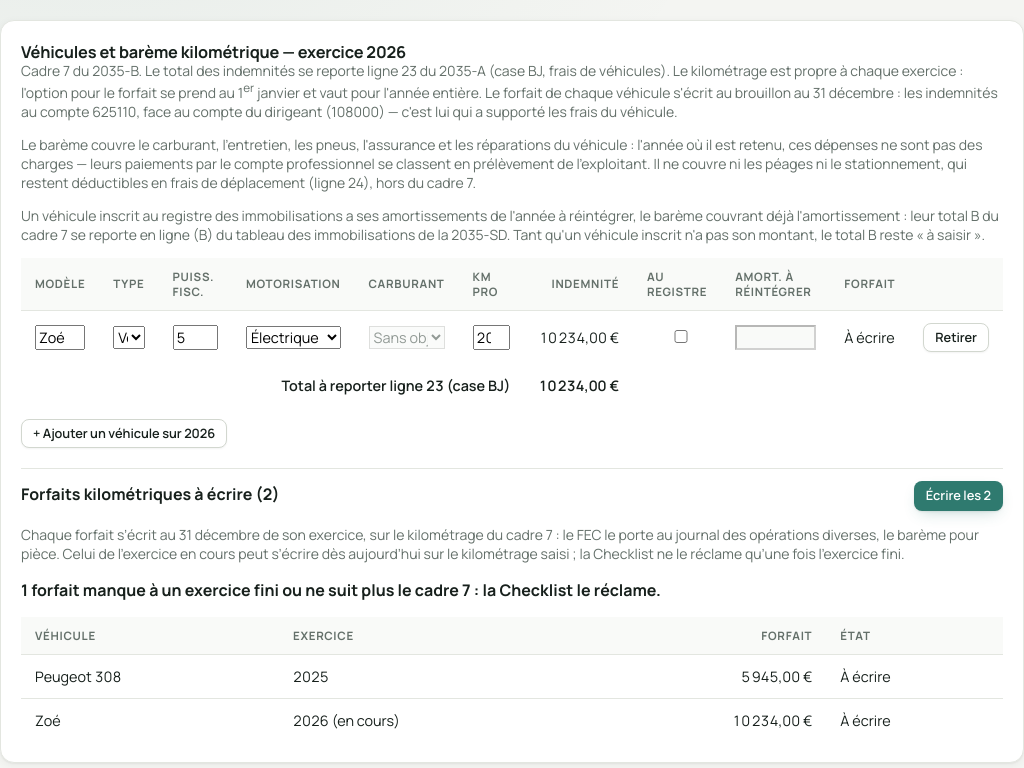
Test case: le forfait kilométrique de chaque ligne du cadre 7 › écrit les forfaits de TOUS les exercices par la base, au compte du dirigeant
The width and height of the screenshot is (1024, 768).
Click the button "Écrire les 2": [958, 496] box [914, 481, 1003, 511]
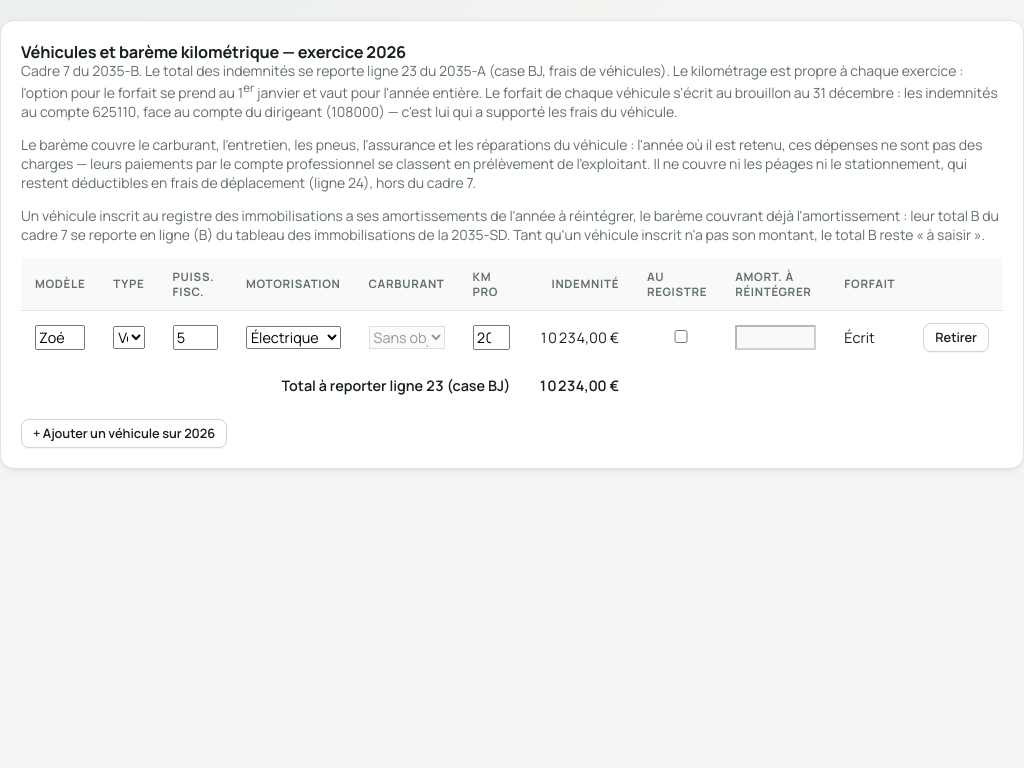
Now the text "Écrit" is shown, box [844, 328, 875, 347]
